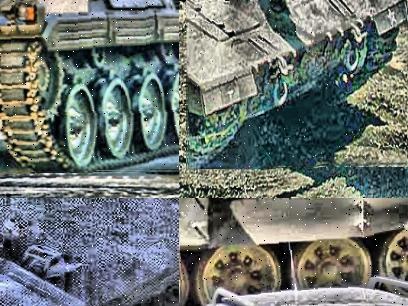tanks: (186, 1, 408, 169), (1, 1, 180, 173), (180, 199, 408, 306), (1, 199, 180, 306)
